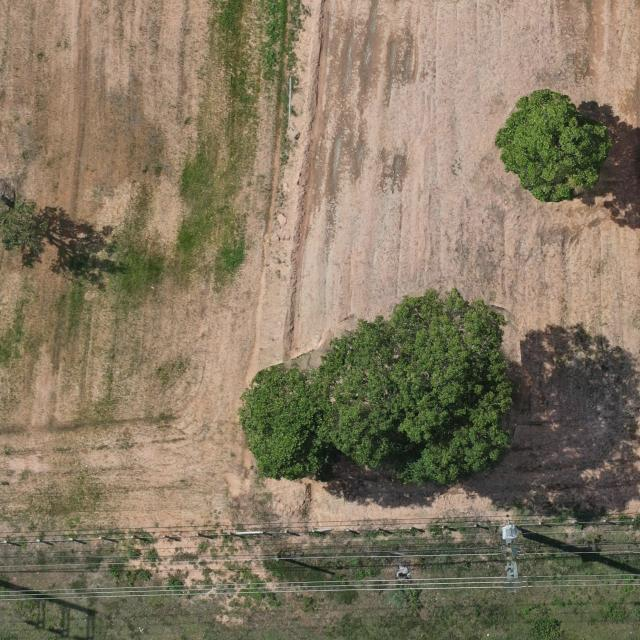Tree: (312, 285, 518, 487), (493, 87, 614, 204), (236, 362, 333, 481), (0, 189, 49, 268)
